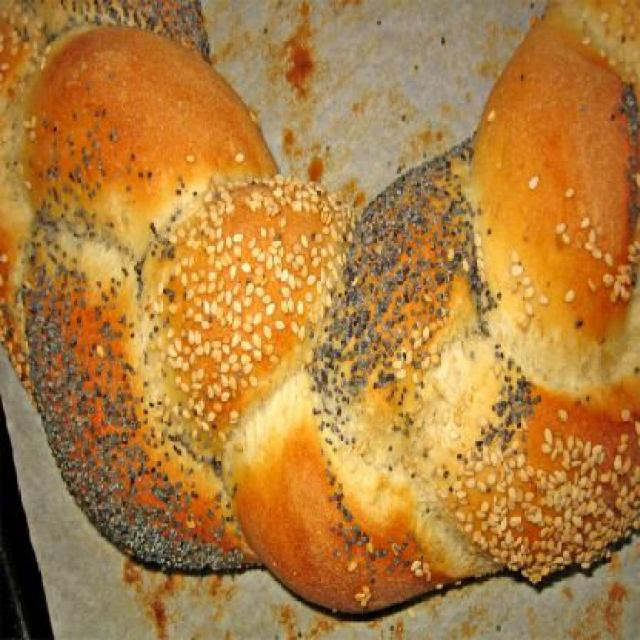Bread: (7, 71, 640, 639)
